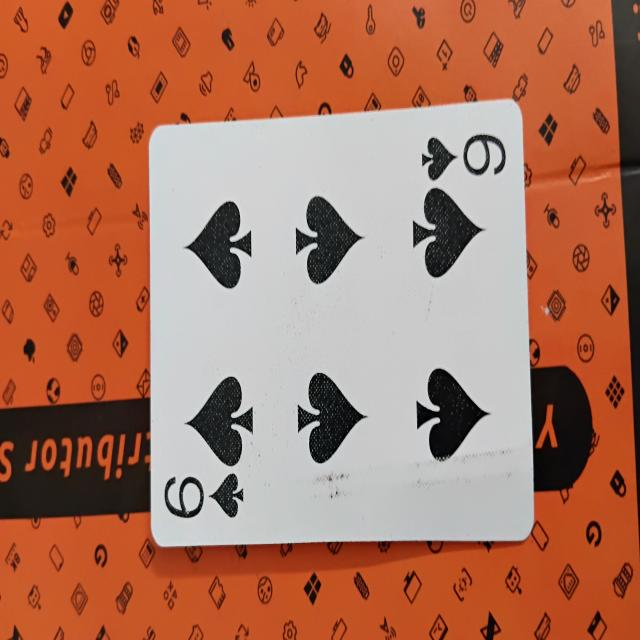6S: (152, 129, 530, 536)
